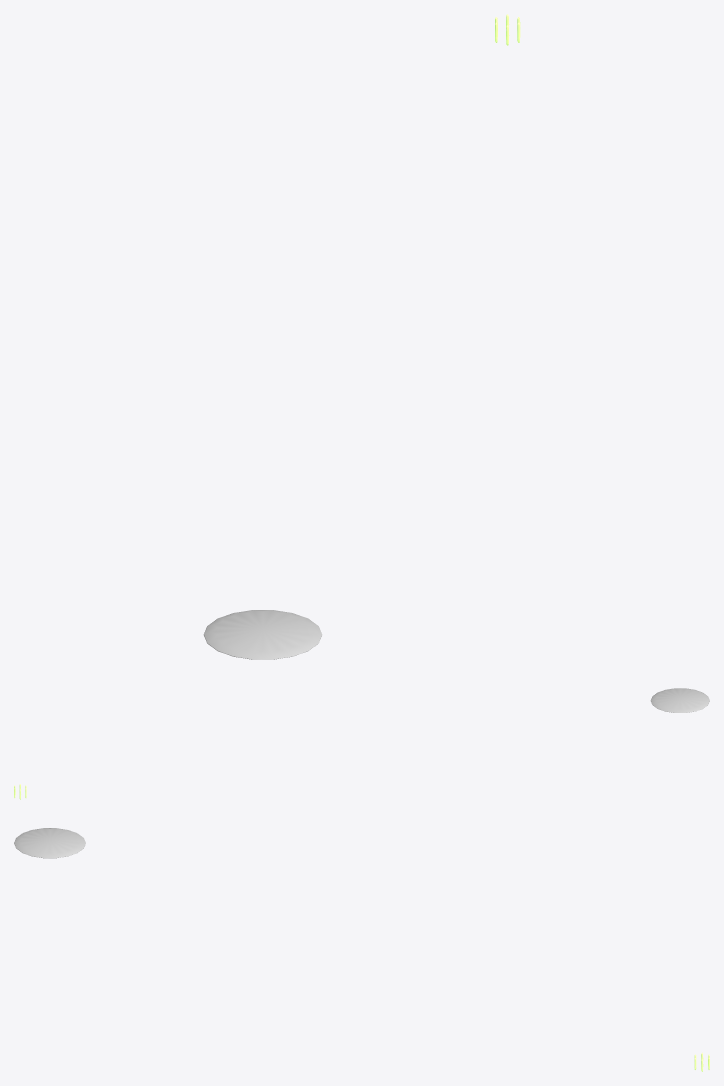
Rendered from farm_crop_wheat_s0_v3.glb.
The picture shows the model from 3 angles, top to bottom: view 1: azimuth 30°, elevation 25°; view 2: azimuth 150°, elevation 25°; view 3: azimuth 270°, elevation 25°; orthographic projection. The views are drawn at different scales.
Parts seen in each view (by area): view 1: soil.003; view 2: soil.003; view 3: soil.003.
Part boxes in pixels (bbox=[...]): soil.003: bbox=[203, 610, 322, 659]; soil.003: bbox=[650, 688, 709, 712]; soil.003: bbox=[14, 828, 85, 858].
Size of the model in its own units: 4.54 by 0.1847 by 5.34.
